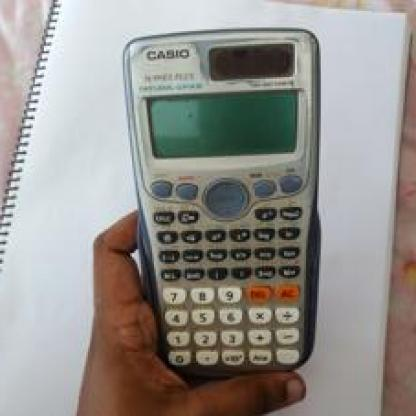calculator: (120, 26, 322, 390)
